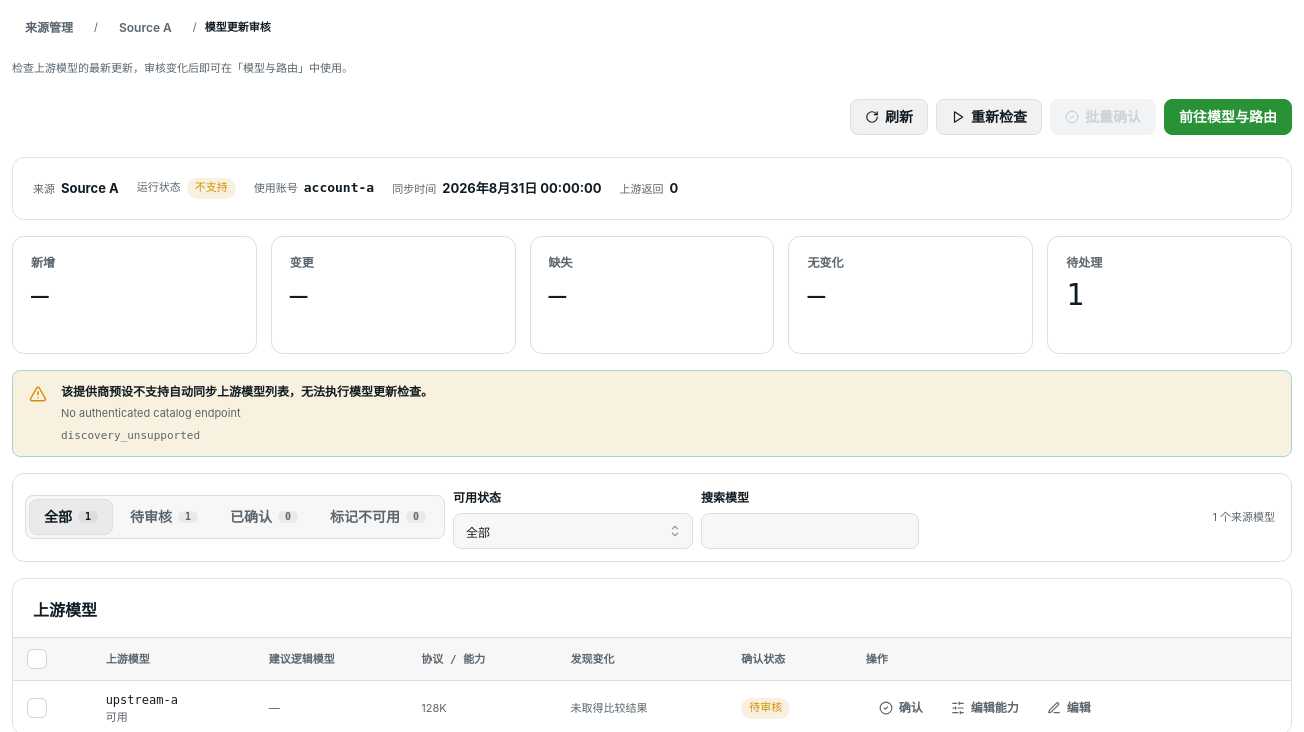
Scenario: production control-plane pages › keeps the catalog and retry when a completed discovery cannot refresh its result
The width and height of the screenshot is (1304, 732).
Click the button "重新检查". click: [989, 117]
box: [936,99,1042,135]
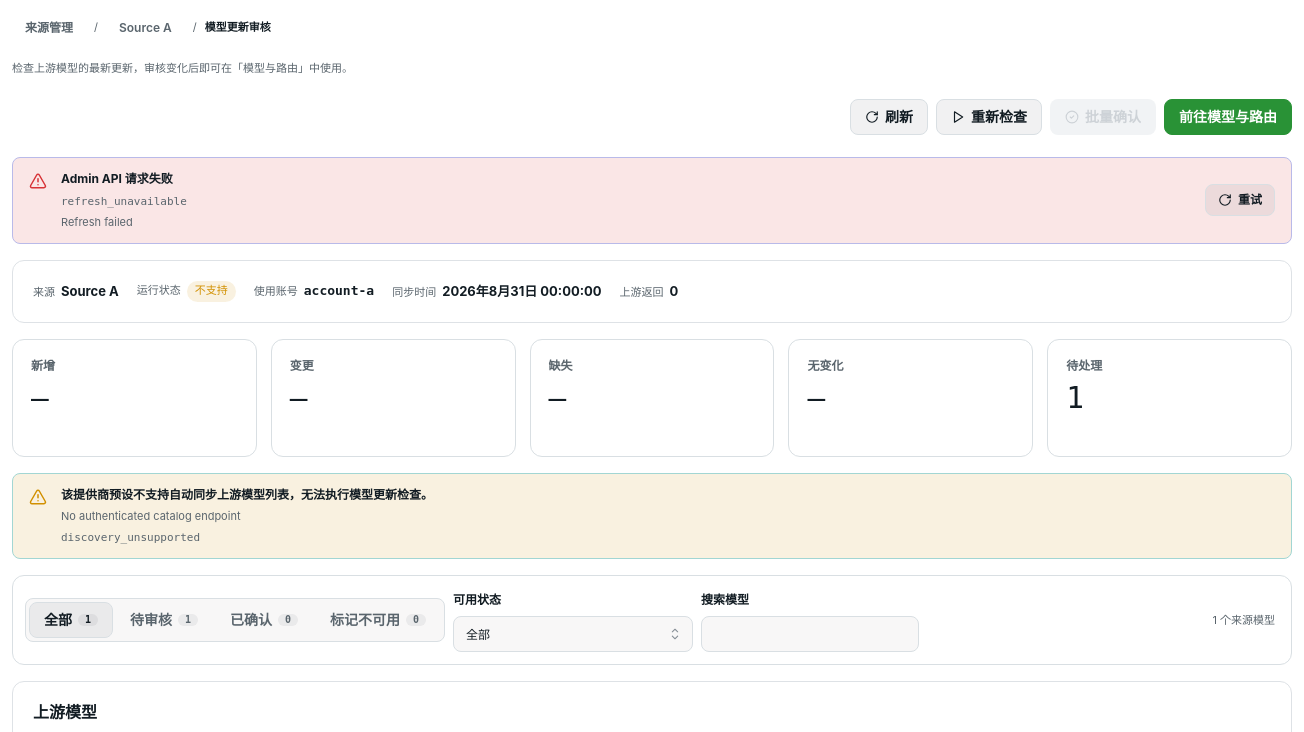
Check: the message "Admin API 请求失败 refresh_unavailable Refresh failed 重试" is shown, box [12,157,1292,244]
Click the button "重试". click: [1240, 200]
box: [1205,184,1275,216]
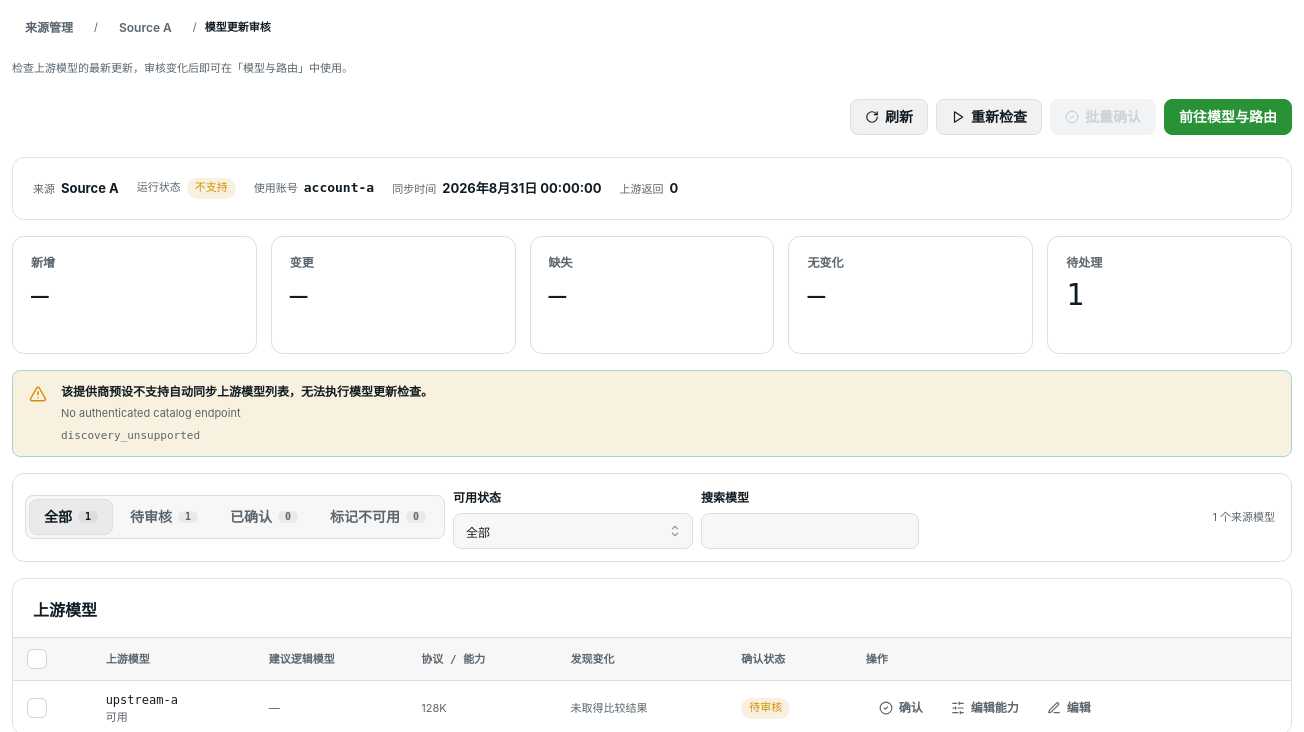
Check: the message "Admin API 请求失败 refresh_unavailable Refresh failed 重试" is gone
